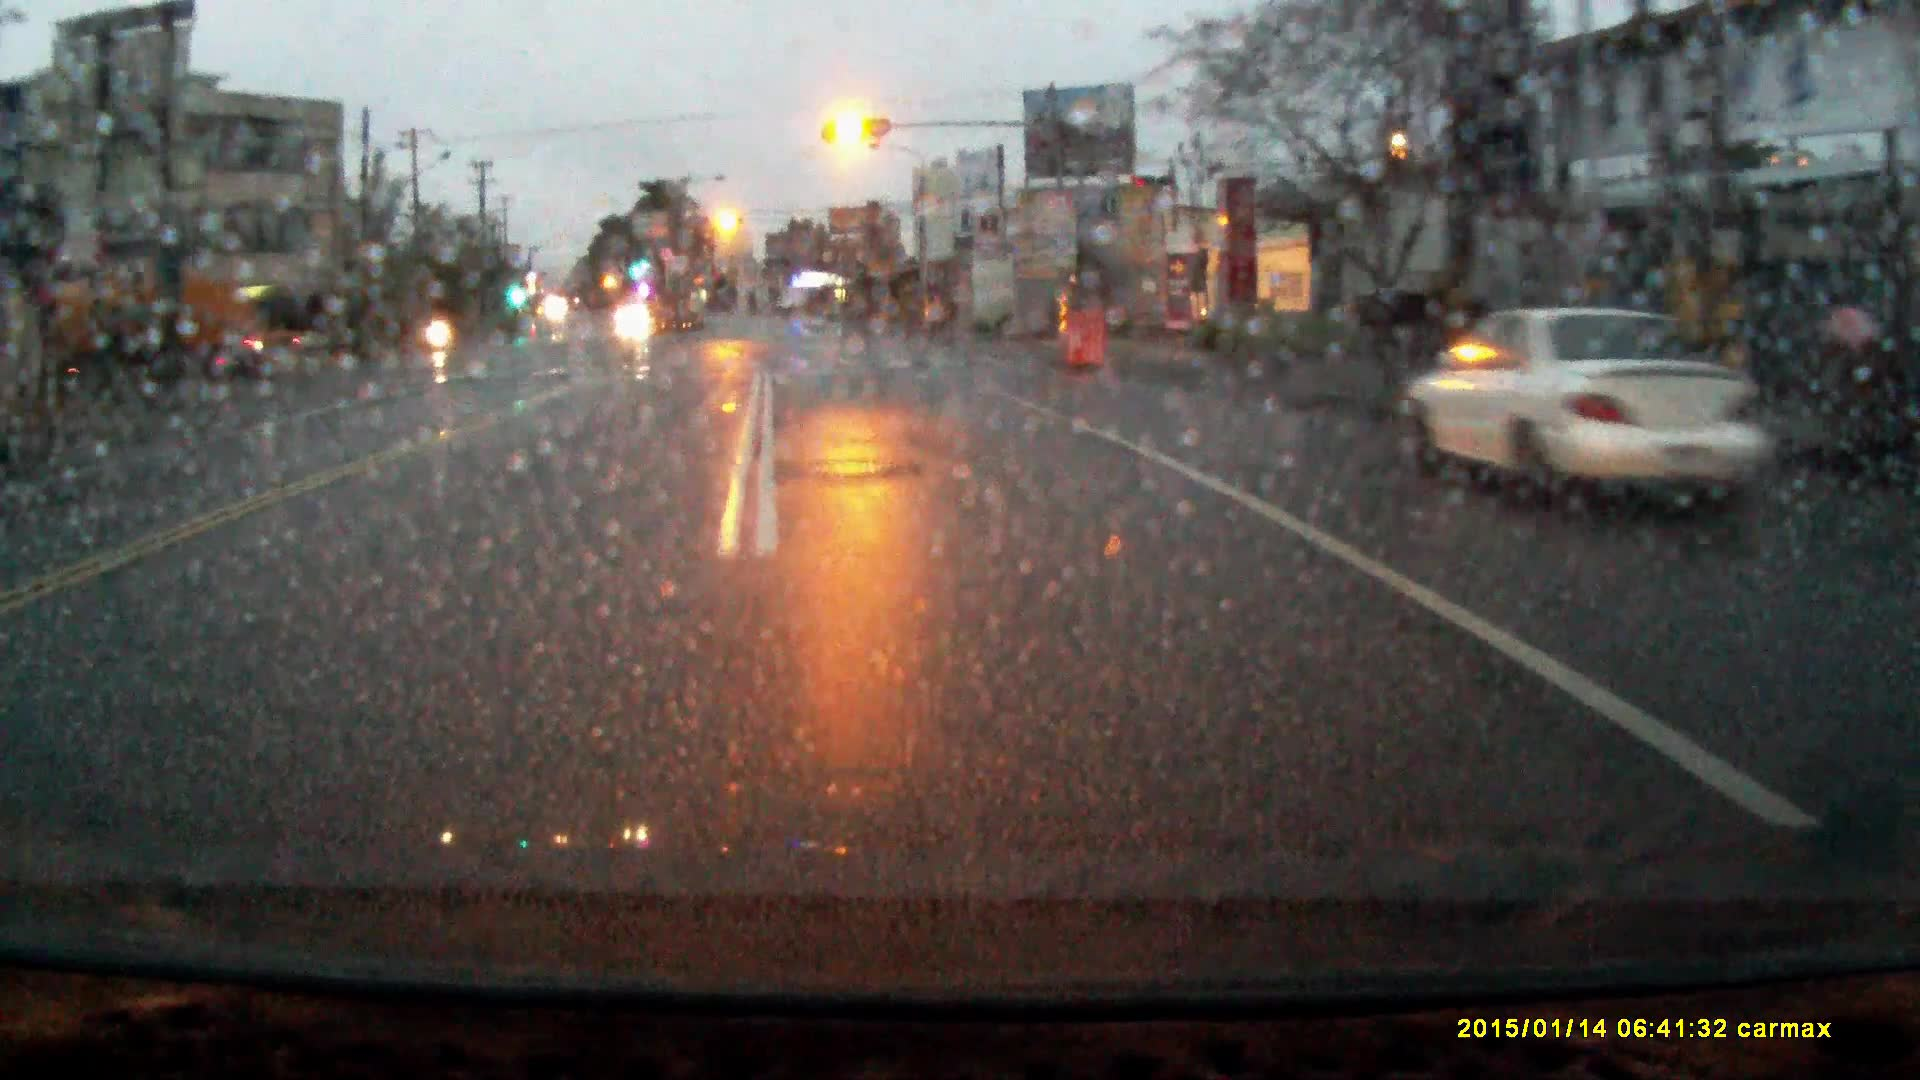rider: (424, 296, 457, 359)
vehicle: (1399, 306, 1801, 521), (20, 258, 264, 380), (616, 300, 653, 332)
